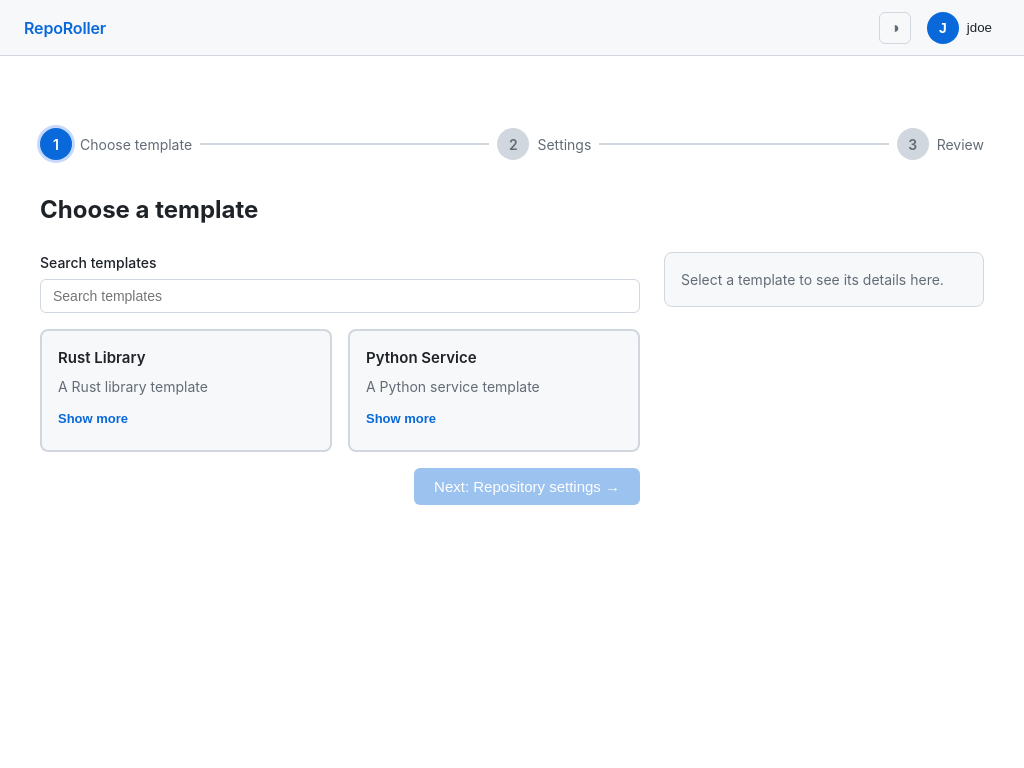
it: Create wizard (SCR-004) › shows VariableField inputs on step 3
Note: Advance through step 1 and 2 to step 3
Click the radio button with aria-label "python-service" at (494, 390), box [348,329,640,452]
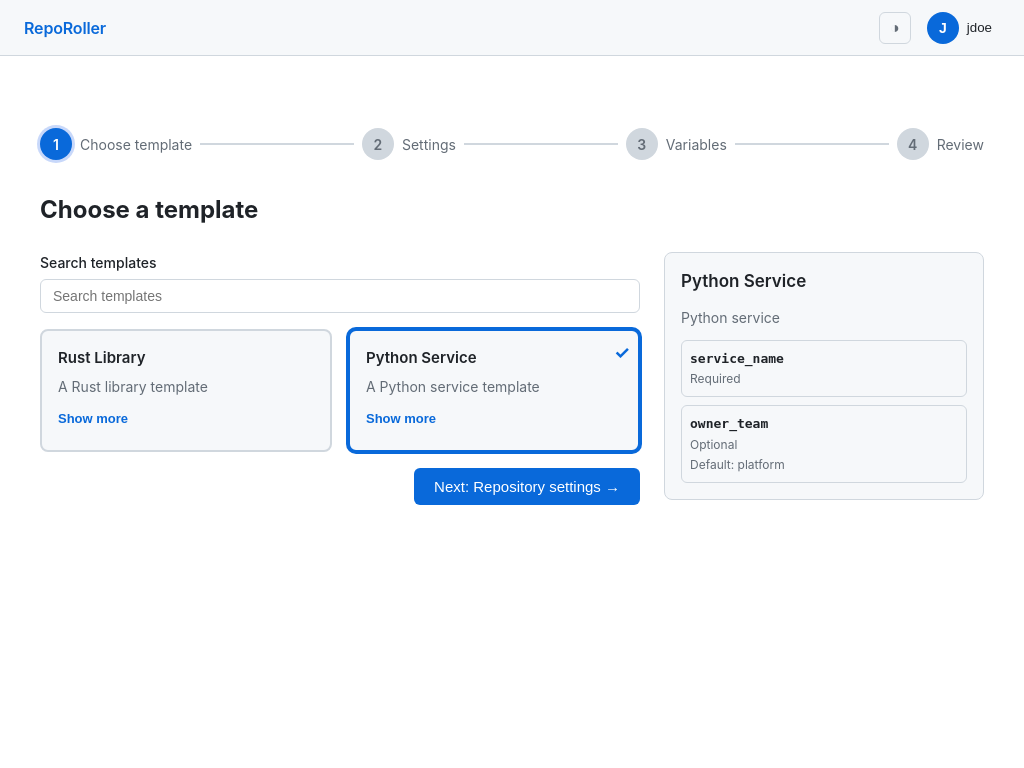
Check: the button "Next: Repository settings →" is enabled
Click the button "Next: Repository settings →" at (527, 486), box [414,468,640,504]
(page scrolled)
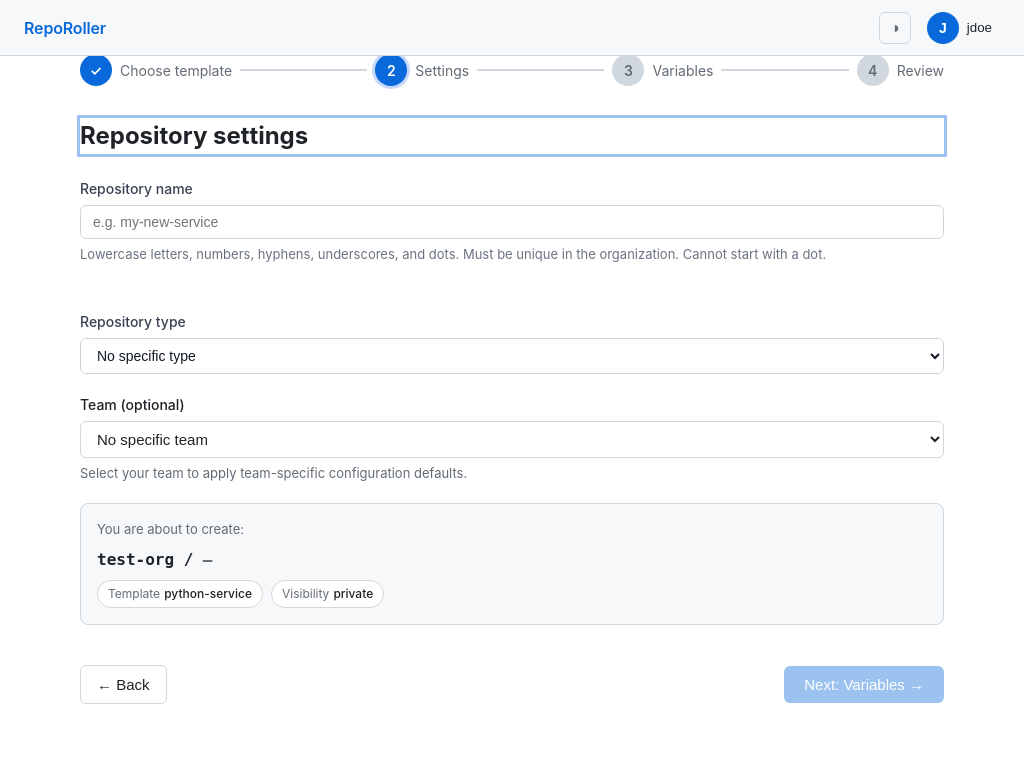
Check: the heading reads "Repository settings", box [80,121,308,150]
Note: Click "Next: Variables →"
Click the button "Next: Variables →" at (864, 684), box [784,666,944,702]
(page scrolled)
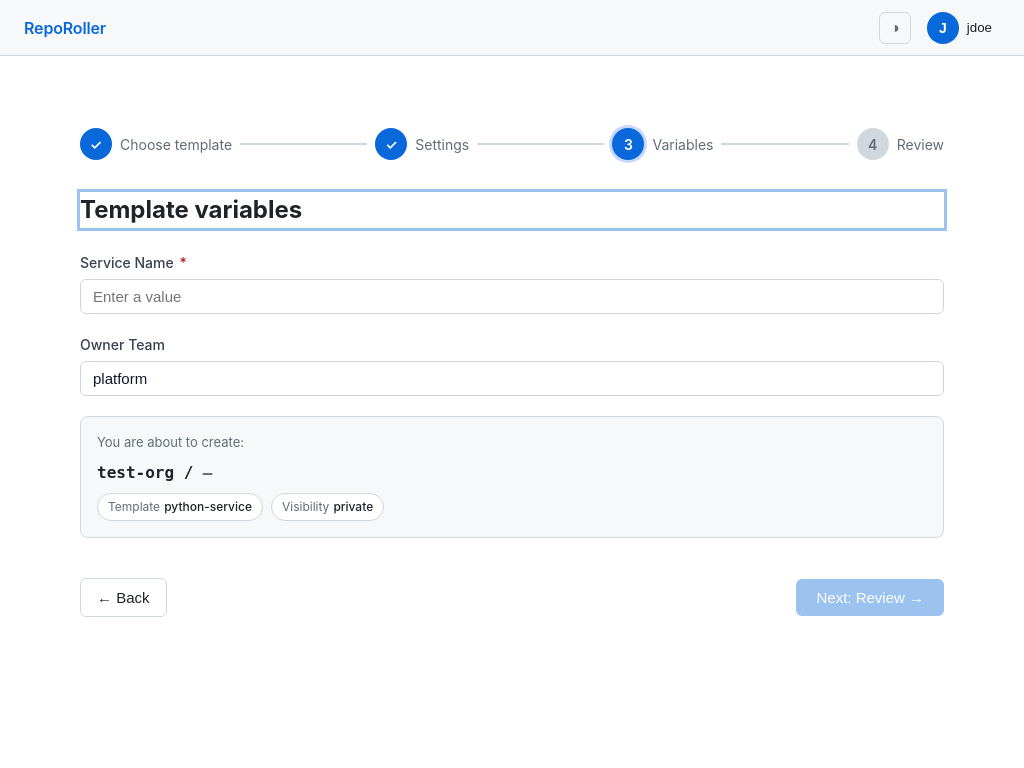
Check: the heading reads "Template variables", box [80,195,302,224]
Check: the field labelled "Service Name *" is shown, box [80,279,944,314]
Check: the field labelled "Owner Team" is shown, box [80,361,944,396]
